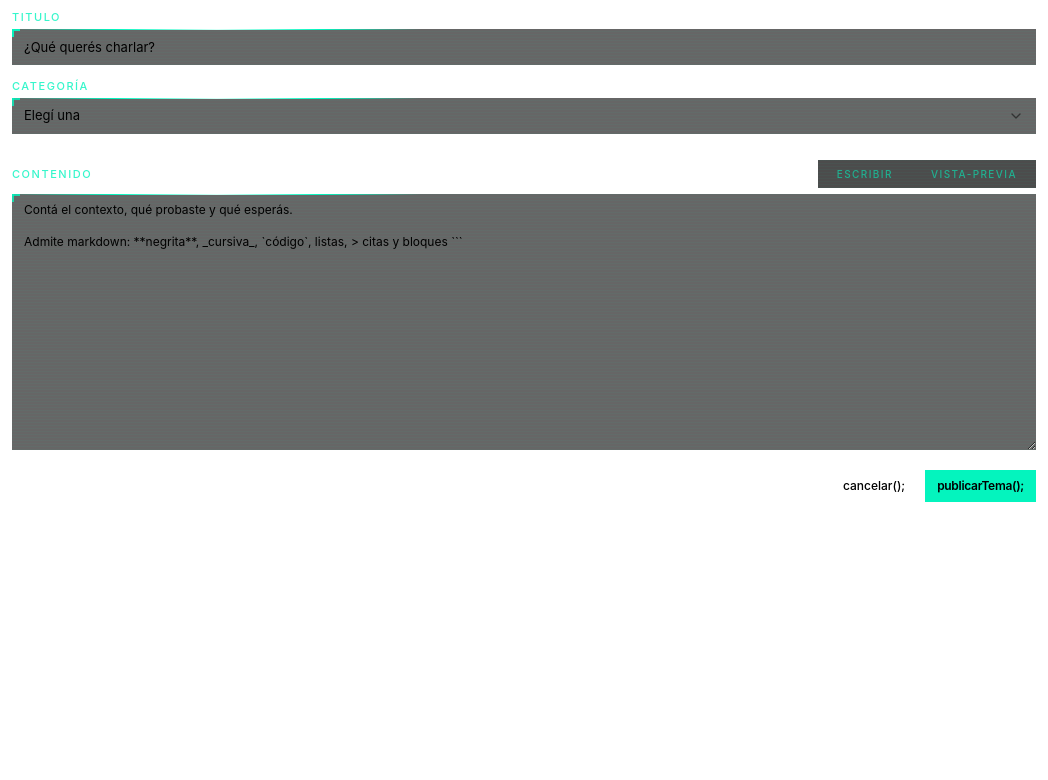
Test case: ForumPostForm › validates before publishing
Click the button "publicarTema();" at (981,486), box [925,470,1036,502]
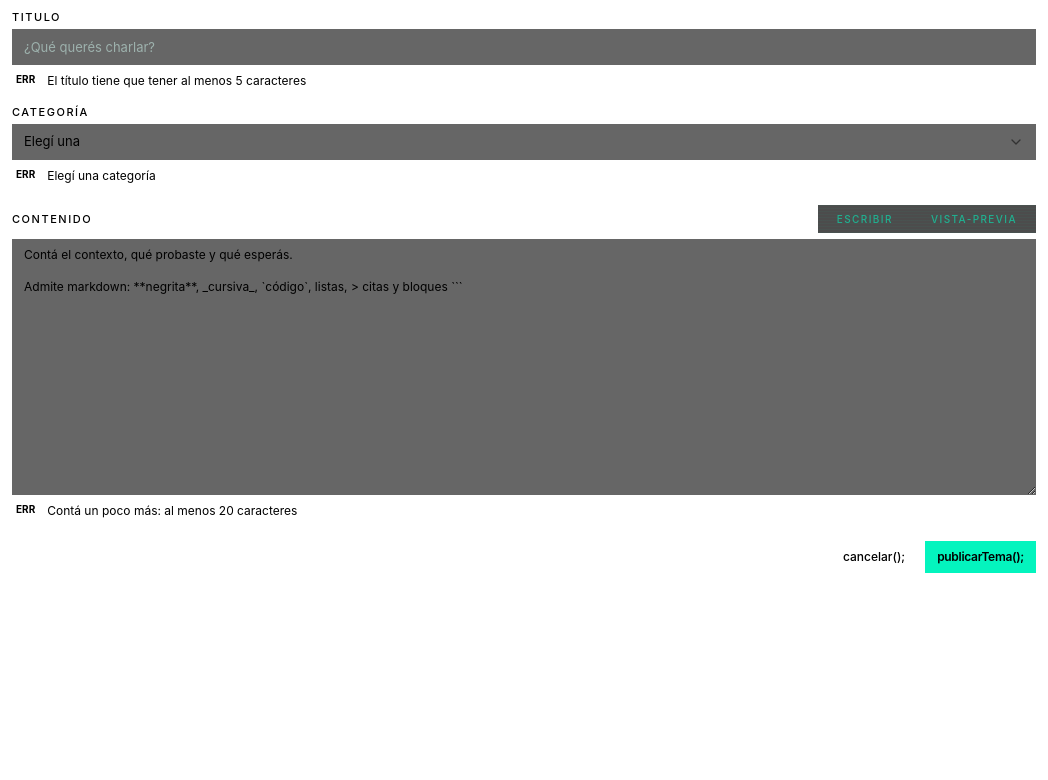
Expected: the text "El título tiene que tener al menos 5 caracteres" is shown, [47,71,306,90]
Expected: the text "Elegí una categoría" is shown, [47,166,156,185]
